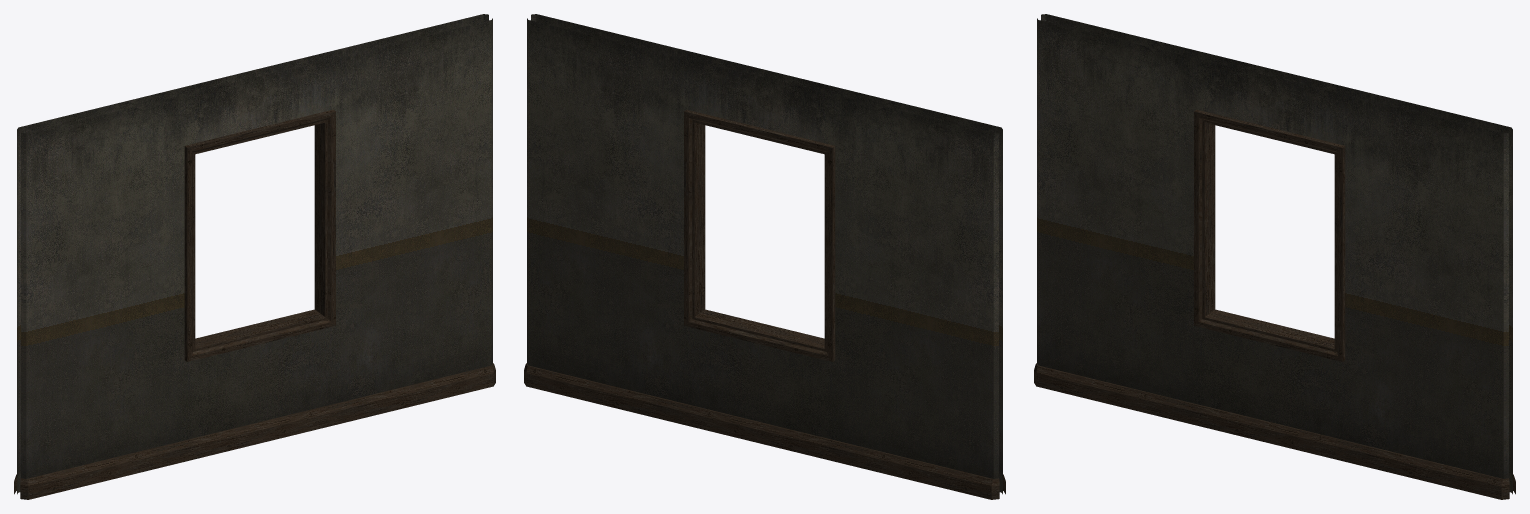
The model's file is window_2_single_frame_only.glb.
3 renders of one model, left to right at view 1: azimuth 30°, elevation 25°; view 2: azimuth 150°, elevation 25°; view 3: azimuth 330°, elevation 25°, orthographic.
Parts seen in each view (by area): view 1: window_2_single_frame_only; view 2: window_2_single_frame_only; view 3: window_2_single_frame_only.
Boxes of the visible parts, <box> form: window_2_single_frame_only: <box>14,14,495,499</box>; window_2_single_frame_only: <box>524,14,1005,499</box>; window_2_single_frame_only: <box>1034,14,1515,499</box>.
Bounding box in the file's own units: 4.09 × 3 × 0.2.
Materials: 2 (2 with a texture image).
